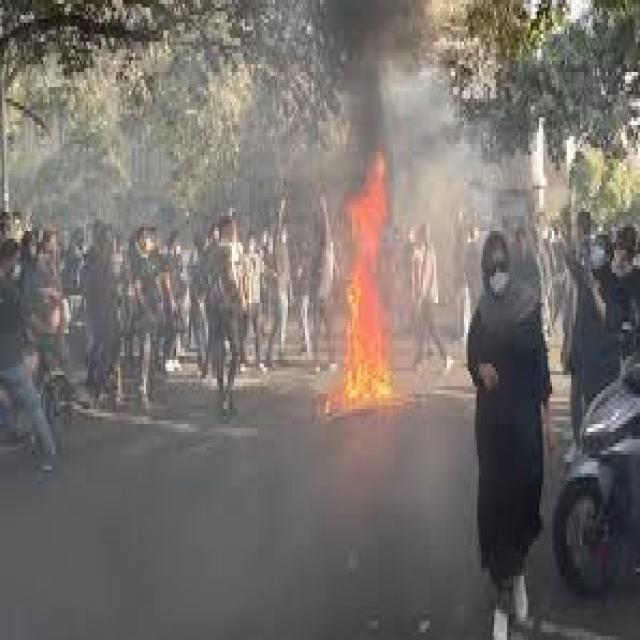Fire: (321, 144, 409, 412)
Smoke: (325, 0, 426, 149), (405, 80, 482, 268)
